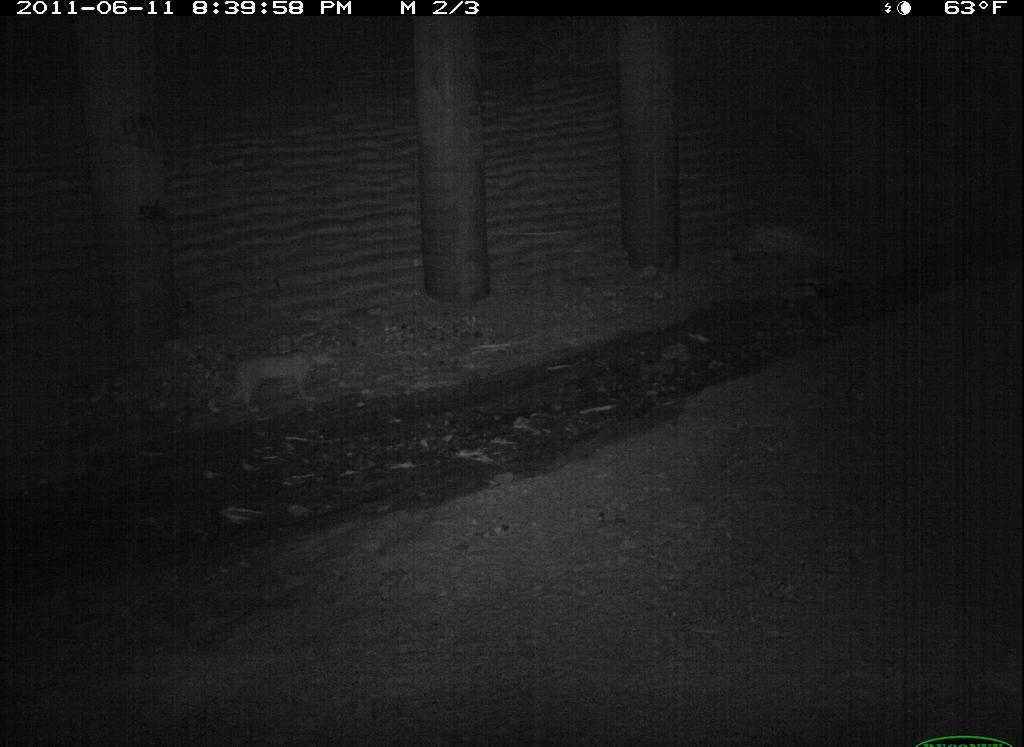bobcat: (443, 683, 680, 747)
